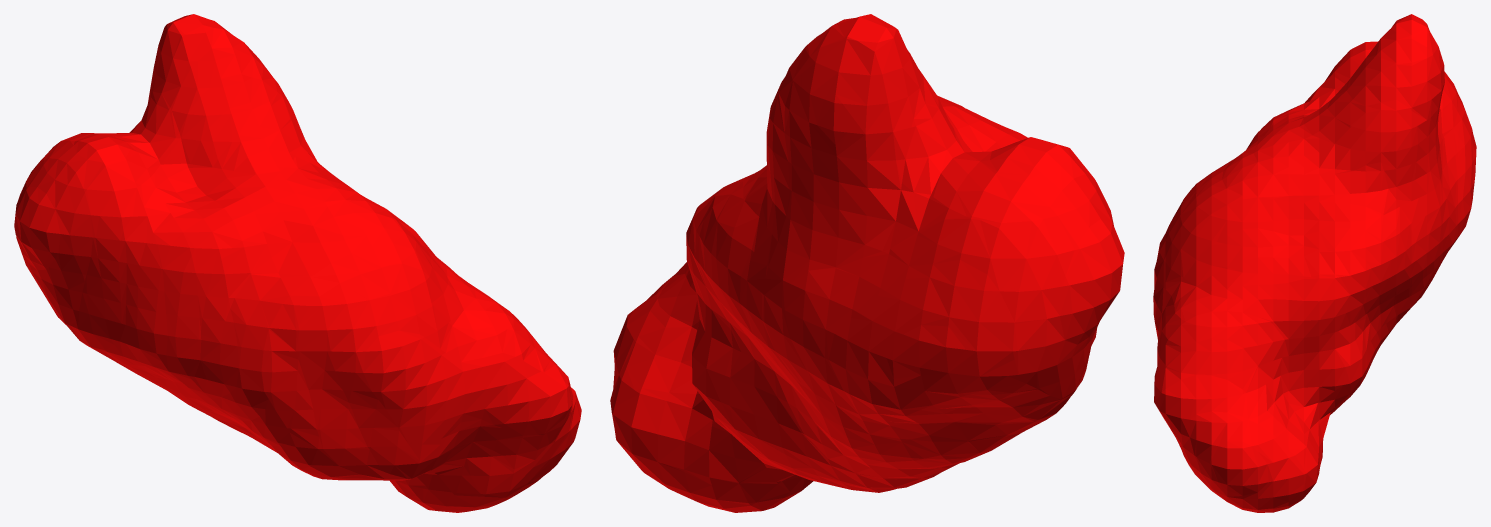
Rendered from folB_coarse.dae.
3 views of the same model, side by side, from view 1: azimuth 30°, elevation 25°; view 2: azimuth 150°, elevation 25°; view 3: azimuth 270°, elevation 25° (orthographic). The views are drawn at different scales.
Visible parts, largest first — view 1: folB; view 2: folB; view 3: folB.
Boxes of the visible parts, <box> form: folB: <box>14,14,581,512</box>; folB: <box>610,14,1124,512</box>; folB: <box>1153,14,1476,512</box>.
Bounding box in the file's own units: 50.7 × 49.52 × 35.56.
